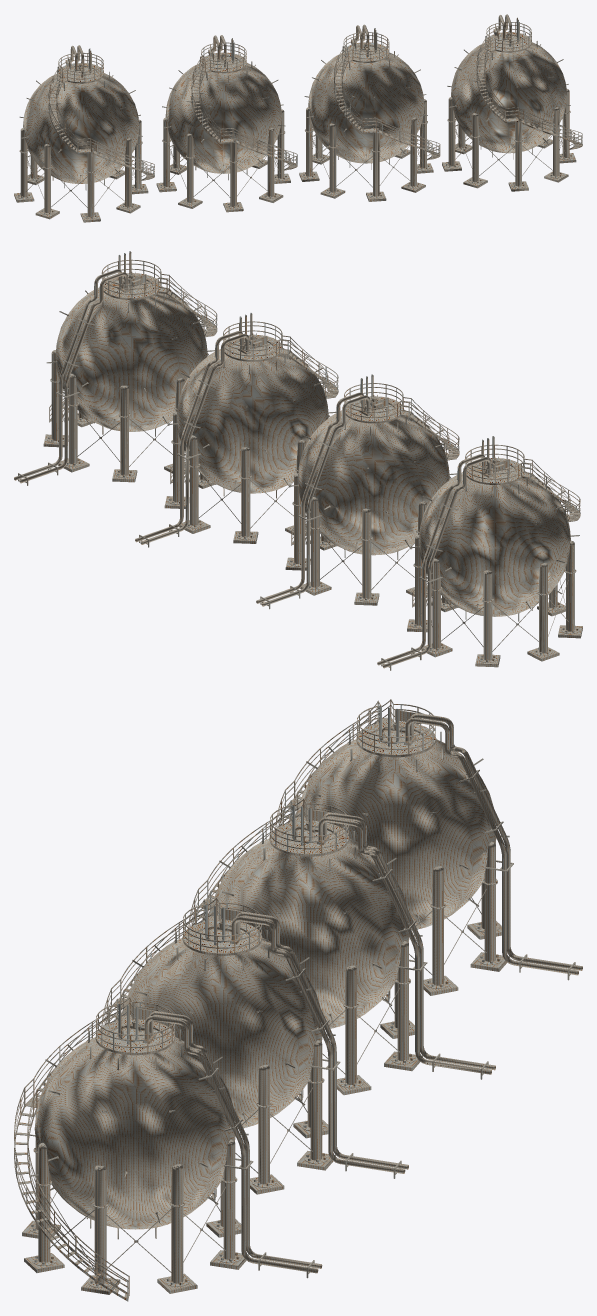
The model's file is youguan_04_01.fbx.
3 renders of one model, top to bottom at view 1: azimuth 30°, elevation 25°; view 2: azimuth 150°, elevation 25°; view 3: azimuth 270°, elevation 25°, orthographic. The views are drawn at different scales.
Visible parts, largest first — view 1: Youguan_04_01; view 2: Youguan_04_01; view 3: Youguan_04_01.
Part boxes in pixels (left/top/right/bottom): Youguan_04_01: left=14, top=14, right=582, bottom=222; Youguan_04_01: left=14, top=251, right=582, bottom=670; Youguan_04_01: left=14, top=699, right=582, bottom=1301.
Bounding box in the file's own units: 10253 × 2959 × 6149.
